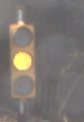Yellow: (6, 18, 45, 113)
